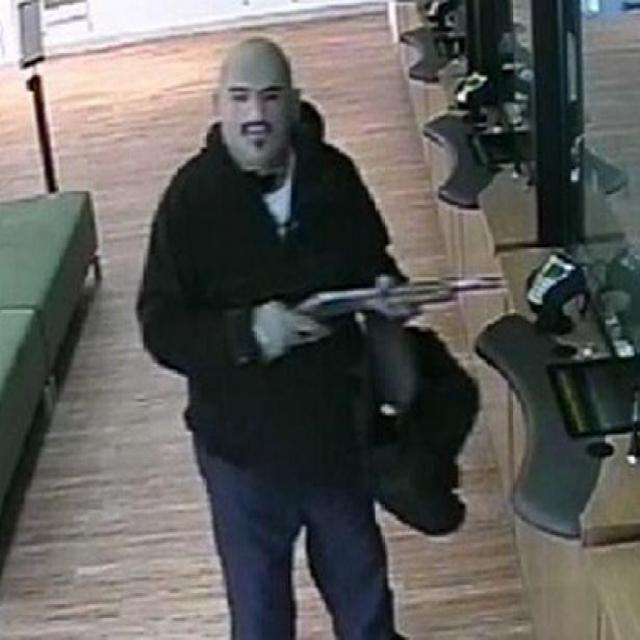gun: (235, 275, 509, 332)
